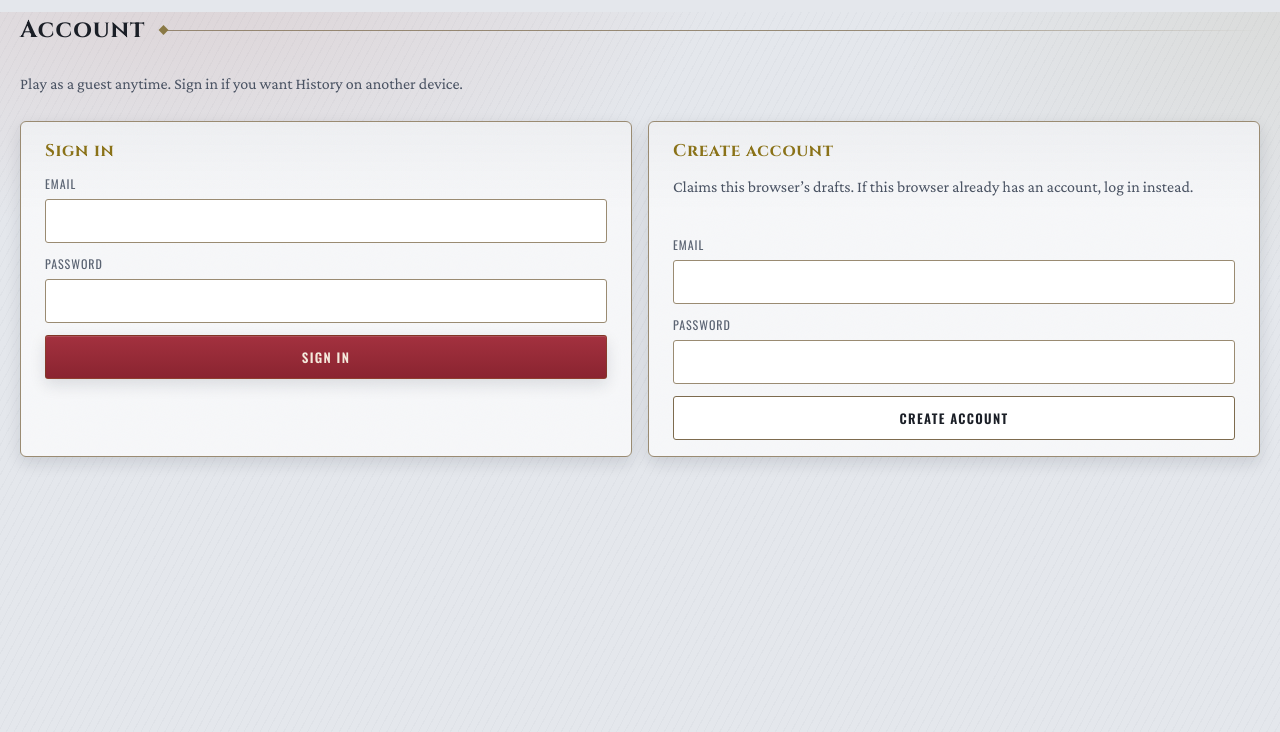
Scenario: AccountPage › shows a localized error when login credentials are invalid
In the field with test id "account-login-email": coordinates (326, 221) top-left (45, 199), bottom-right (607, 243), type "nick@example.com"
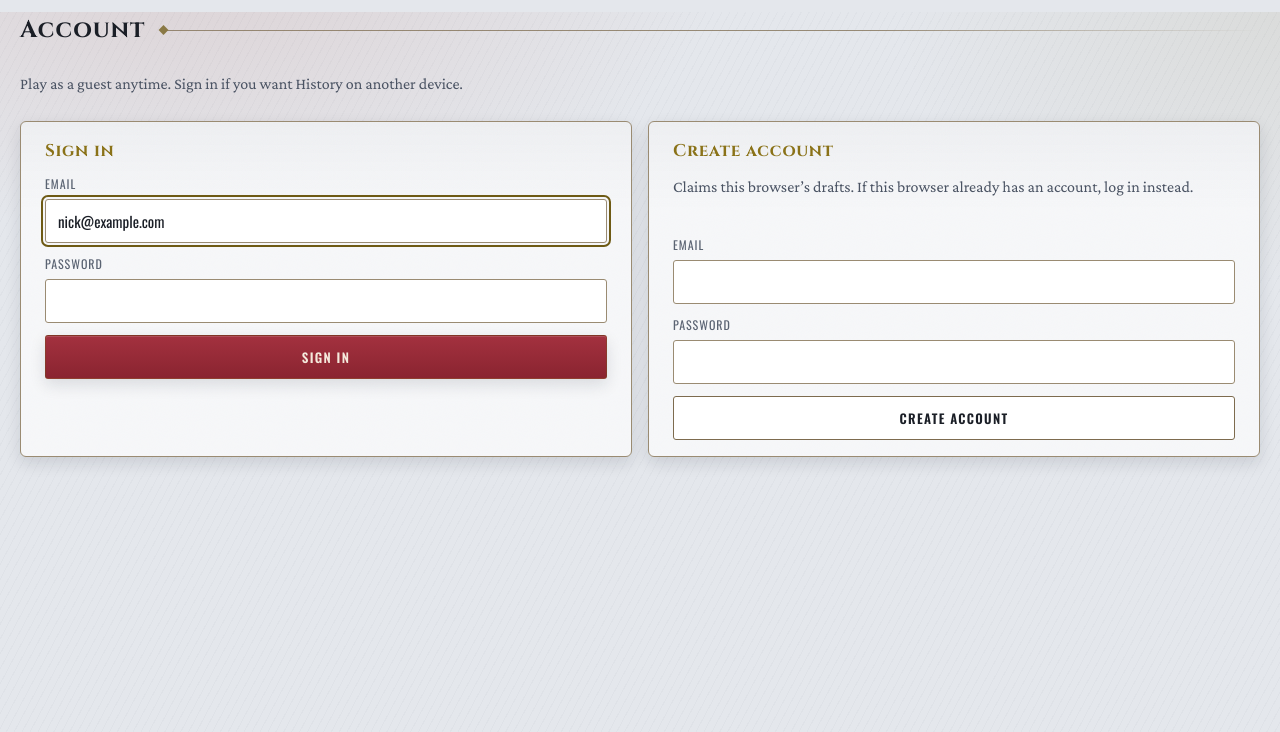
In the password field with test id "account-login-password": coordinates (326, 301) top-left (45, 279), bottom-right (607, 323), type "password1"
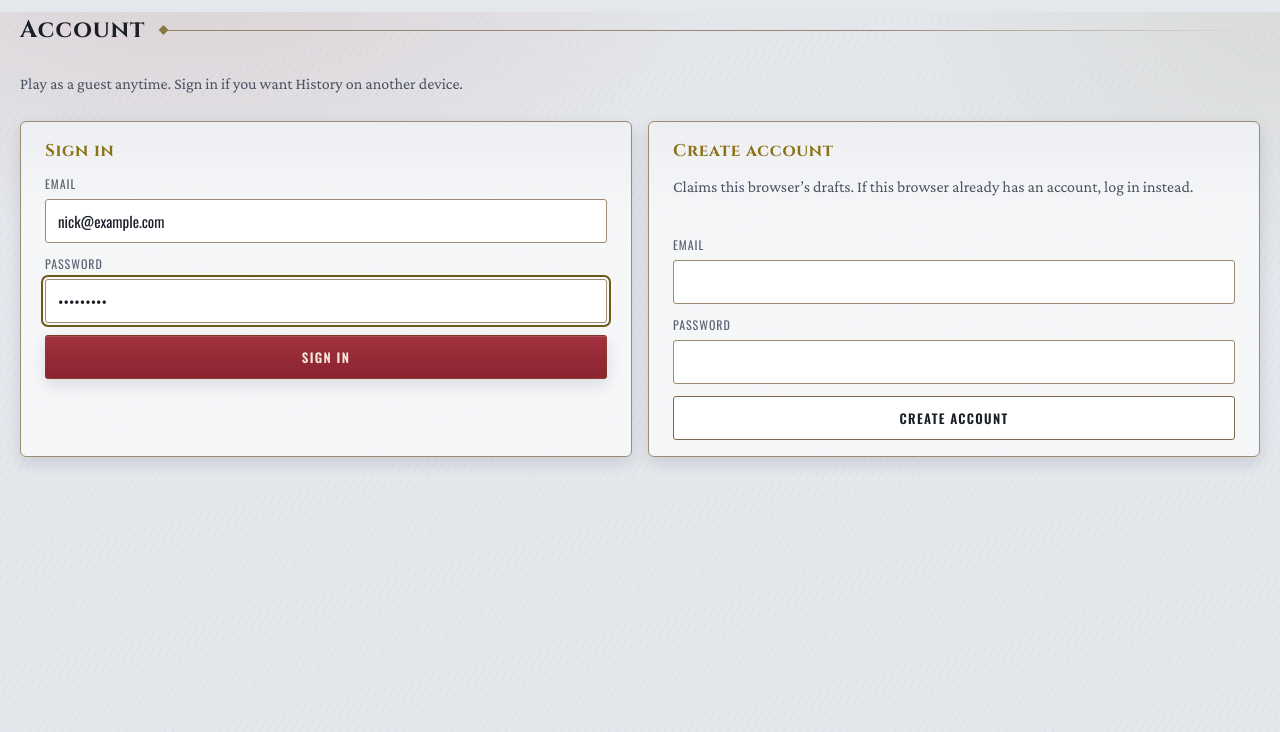
Click the button with test id "account-login-submit": coordinates (326, 357) top-left (45, 335), bottom-right (607, 379)
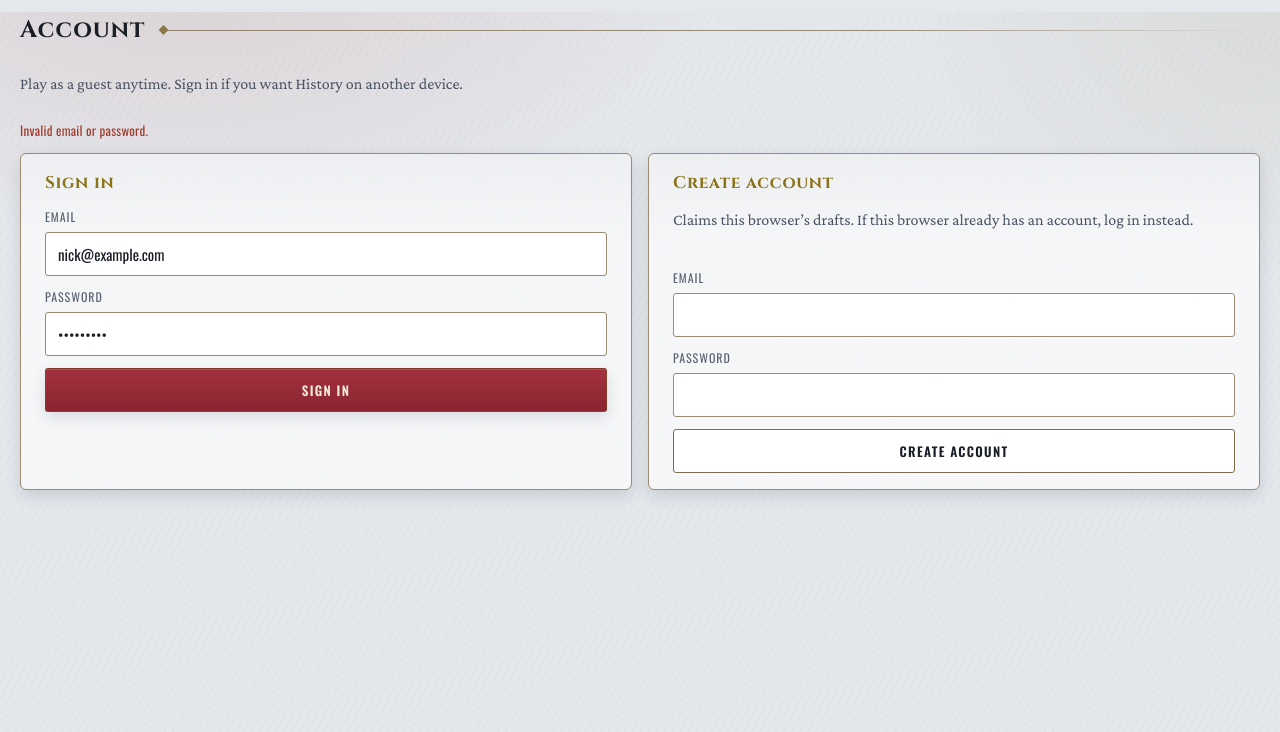
Expected: the element with test id "account-error" does not show ""
Expected: the text with test id "account-error" reads "Invalid email or password.", top-left (20, 120), bottom-right (148, 140)
